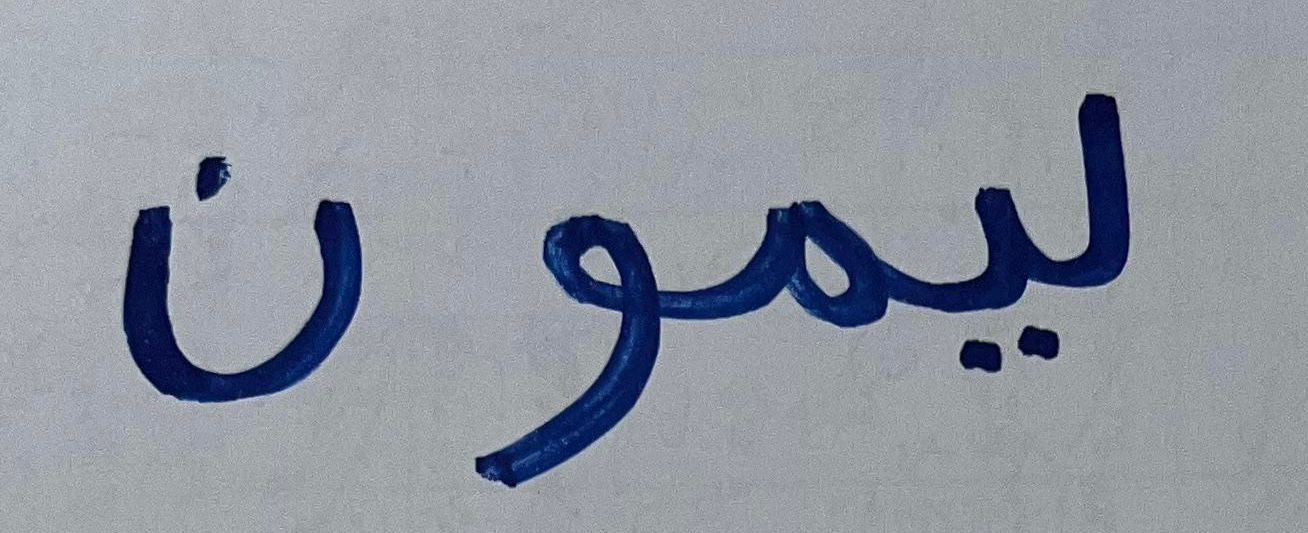lam: (1064, 70, 1169, 310)
meem: (694, 159, 905, 371)
noon: (104, 107, 392, 434)
waw: (449, 172, 687, 498)
yeh: (910, 170, 1060, 387)
